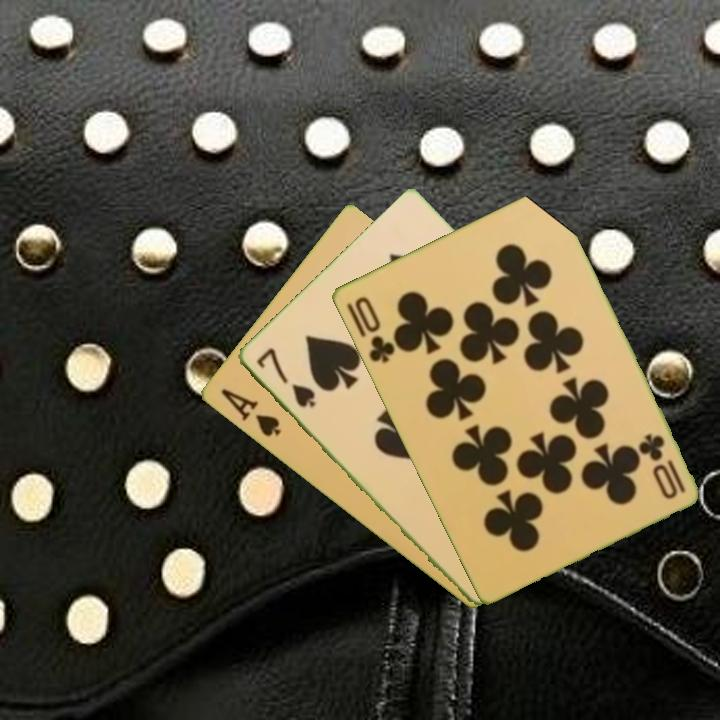10c: (350, 292, 398, 366), (635, 429, 688, 496)
7s: (252, 344, 318, 411)
As: (216, 384, 284, 440)
